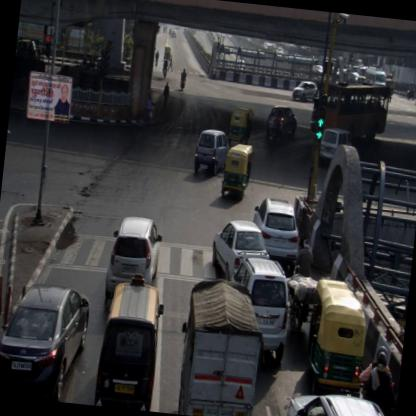bus: (310, 76, 390, 144), (363, 64, 386, 86)
car: (0, 277, 93, 404), (93, 270, 170, 410), (222, 254, 294, 372), (104, 214, 166, 301), (246, 195, 302, 275), (210, 216, 272, 284), (193, 126, 230, 178), (317, 126, 353, 169), (267, 106, 298, 138), (290, 78, 316, 104)
motorcycle: (287, 233, 316, 330), (266, 112, 284, 146), (178, 66, 188, 90), (160, 57, 170, 79)
truck: (172, 278, 269, 415)
